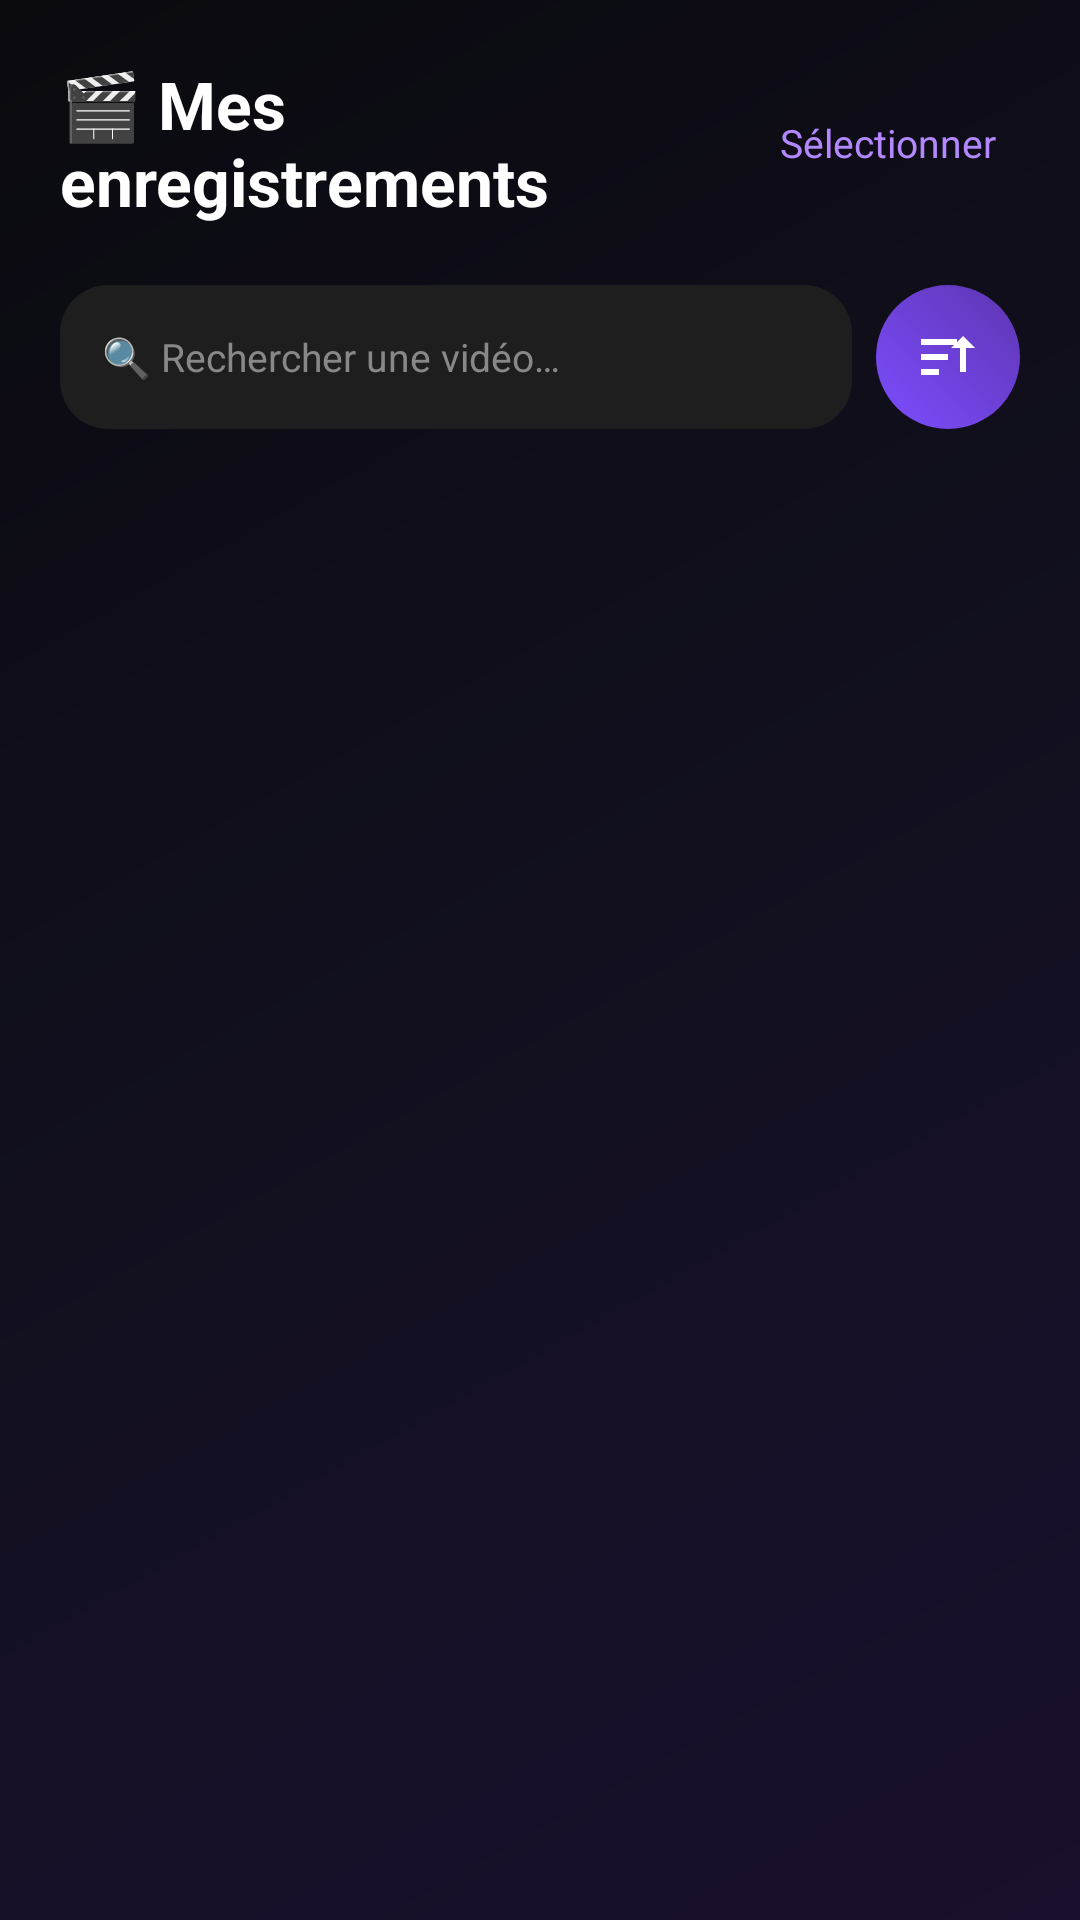

Icon bounding boxes for this 1080 x 1920 phone screenshot, format (x1, y1, x2, y2):
sort: (876, 285, 1020, 429)
